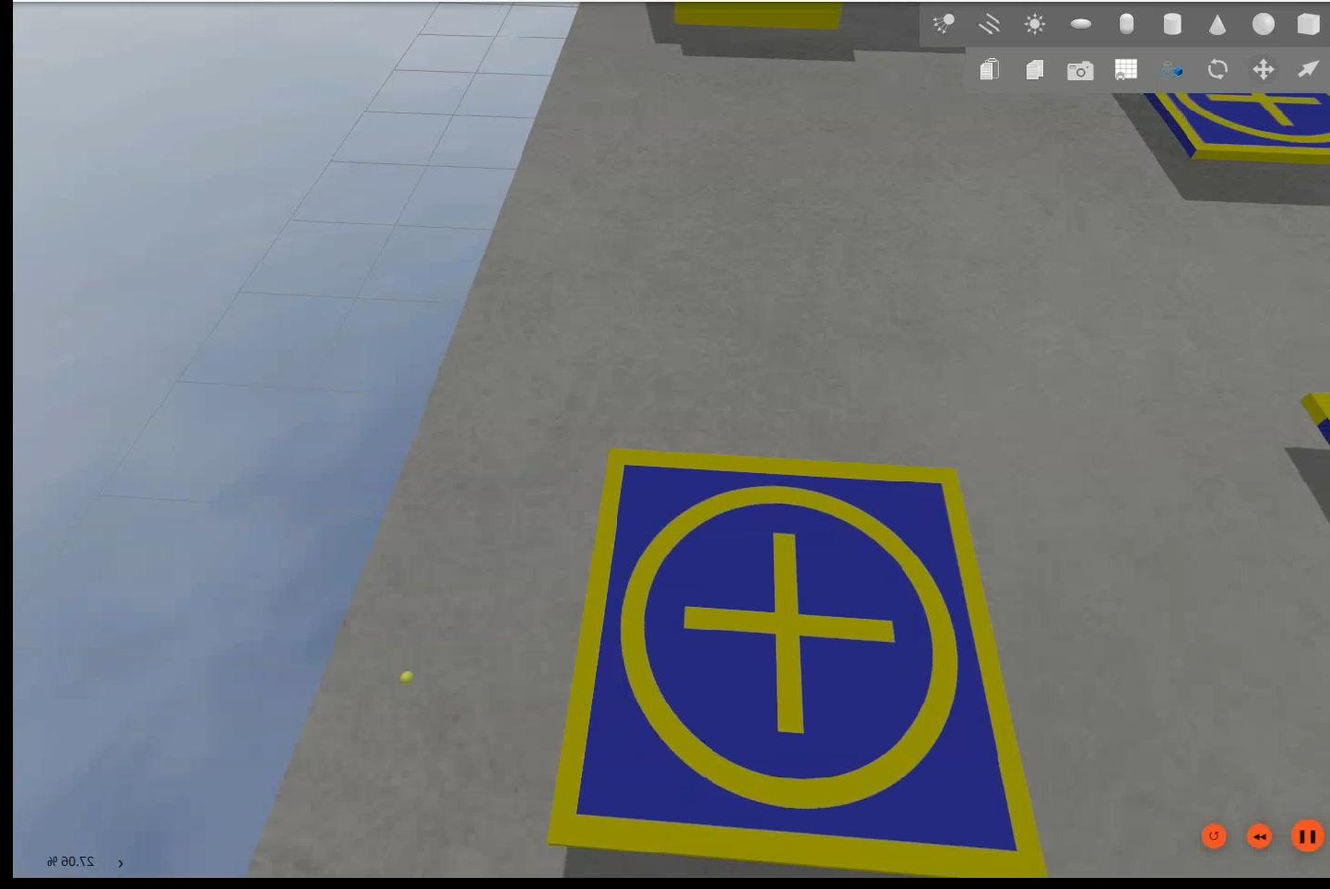small_base: (545, 446, 1050, 880), (1141, 93, 1328, 163)
